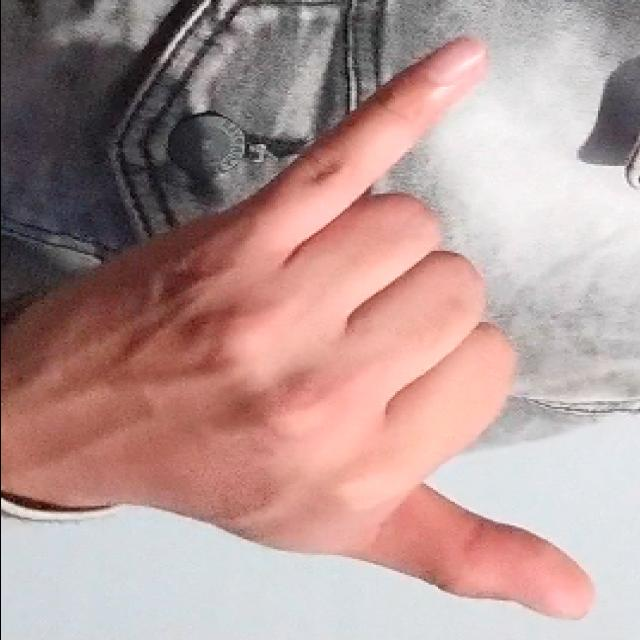Y: (64, 29, 606, 629)
